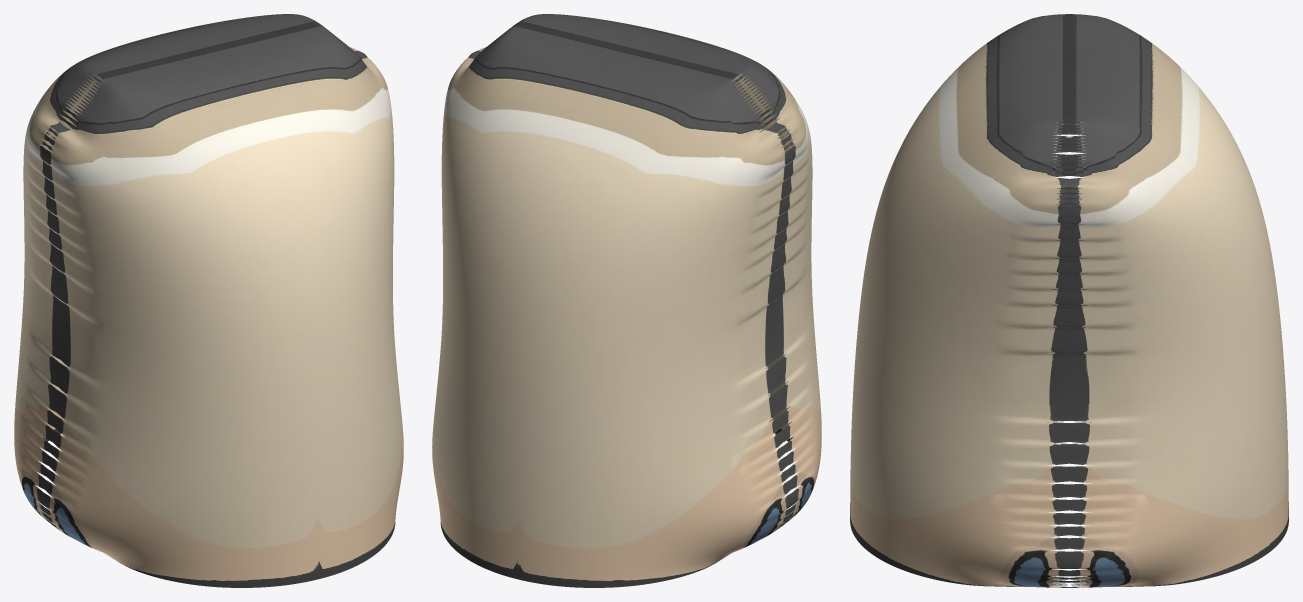
File: center_plaque.glb
The picture shows the model from 3 angles, left to right: view 1: azimuth 30°, elevation 25°; view 2: azimuth 150°, elevation 25°; view 3: azimuth 270°, elevation 25°; orthographic projection.
Parts seen in each view (by area): view 1: center_plaque; view 2: center_plaque; view 3: center_plaque.
Part boxes in pixels (<box>): center_plaque: <box>14,14,403,587</box>; center_plaque: <box>432,14,821,587</box>; center_plaque: <box>850,14,1288,587</box>.
Size of the model in its own units: 0.9857 by 1.28 by 1.12.
1 material, 1 textured.
